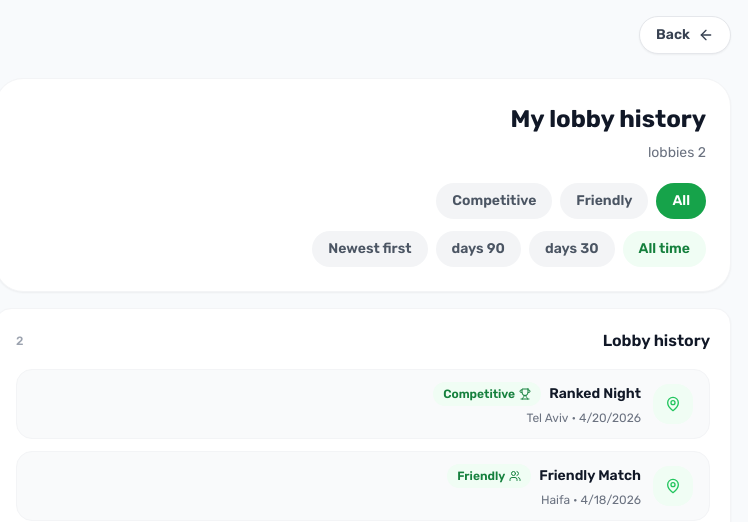
it: ProfileHistoryPage › shows a single lobby history list with filters and pagination
The image size is (748, 522).
Expected: the heading "Lobby history" is shown, [603, 329, 710, 353]
Expected: the text "Ranked Night" is shown, [549, 384, 641, 404]
Click the button "Competitive" at (494, 201), box [436, 183, 552, 219]
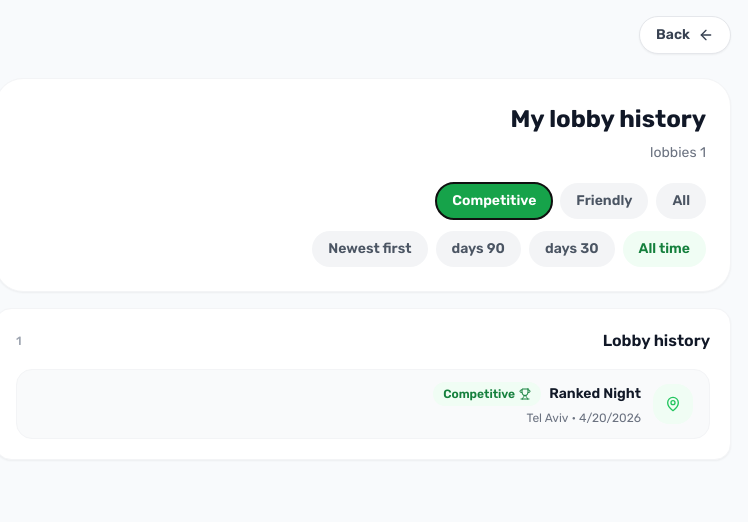
Expected: the text "Ranked Night" is shown, [549, 384, 641, 404]
Result: the button "Friendly Match" is gone
Click the button "Friendly" at (604, 201), box [560, 183, 648, 219]
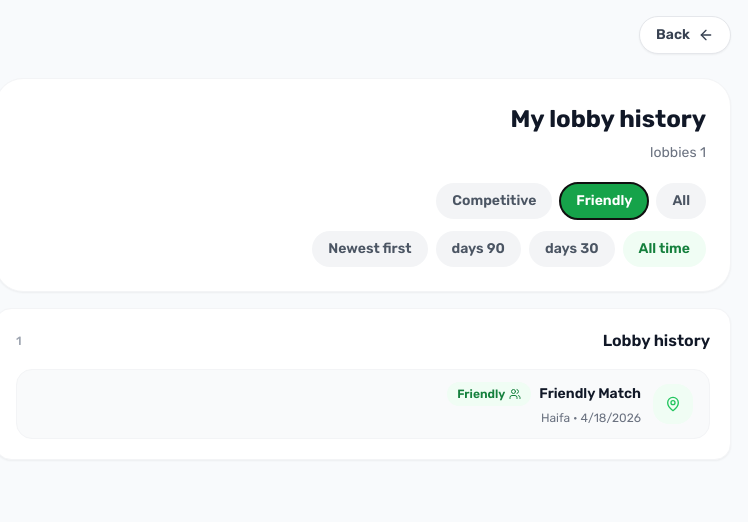
Result: the text "Friendly Match" is shown at [539, 384, 641, 404]
Result: the button "Ranked Night" is gone
